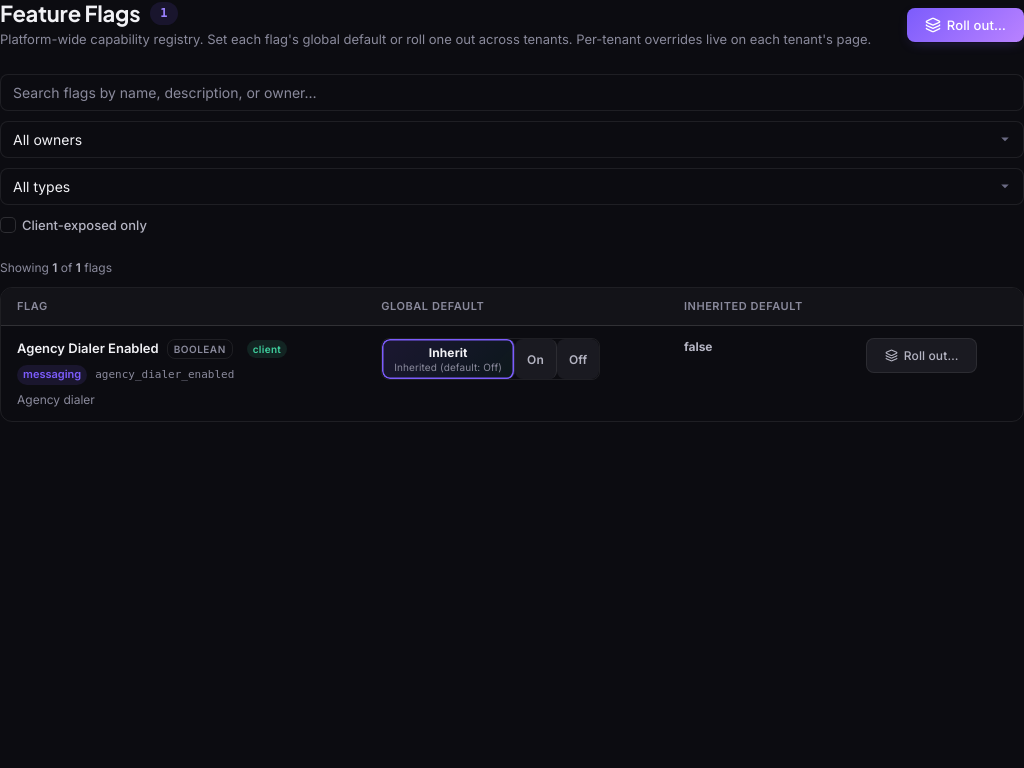
Test: SAFeatureFlagsPage — filters & rollout › required reason blocks bulk submit until filled
Expected: the text "Agency Dialer Enabled" is shown, 17,340 -> 159,356
Click the button "Roll out…" in the row of "Feature Flags" at (965, 25), box 907,8 -> 1023,42
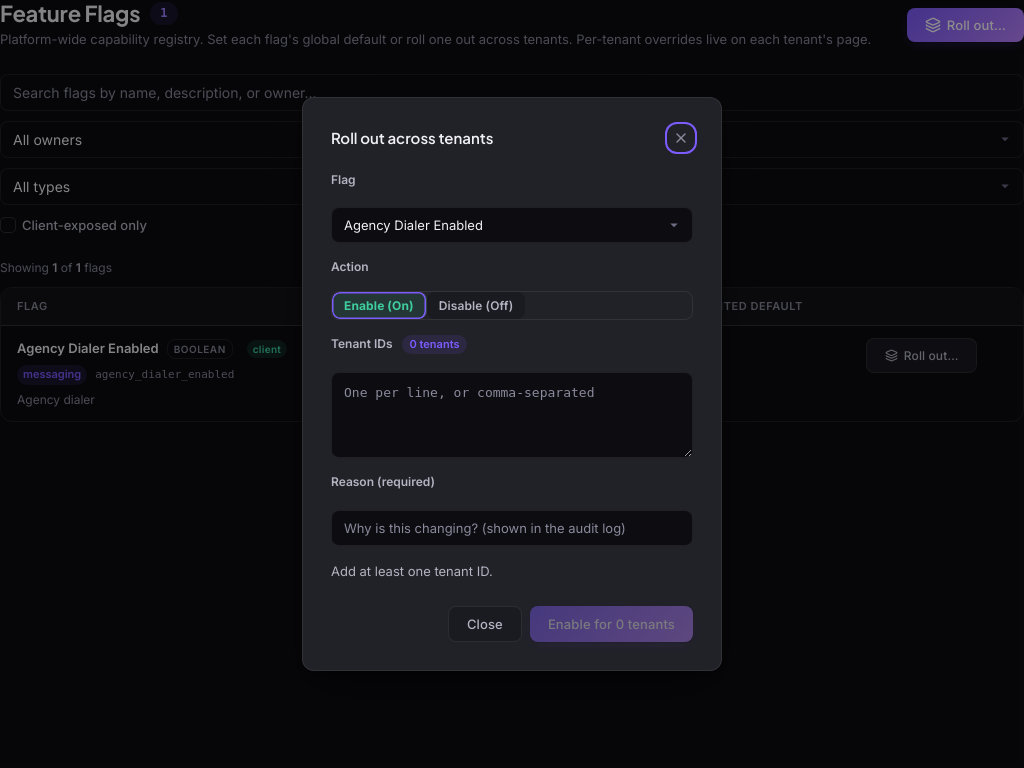
Now the text "Roll out across tenants" is shown, box 331,126 -> 494,150
Type "a b" into the text box labelled "Tenant IDs 0 tenants" at (512, 415), box 331,372 -> 693,458
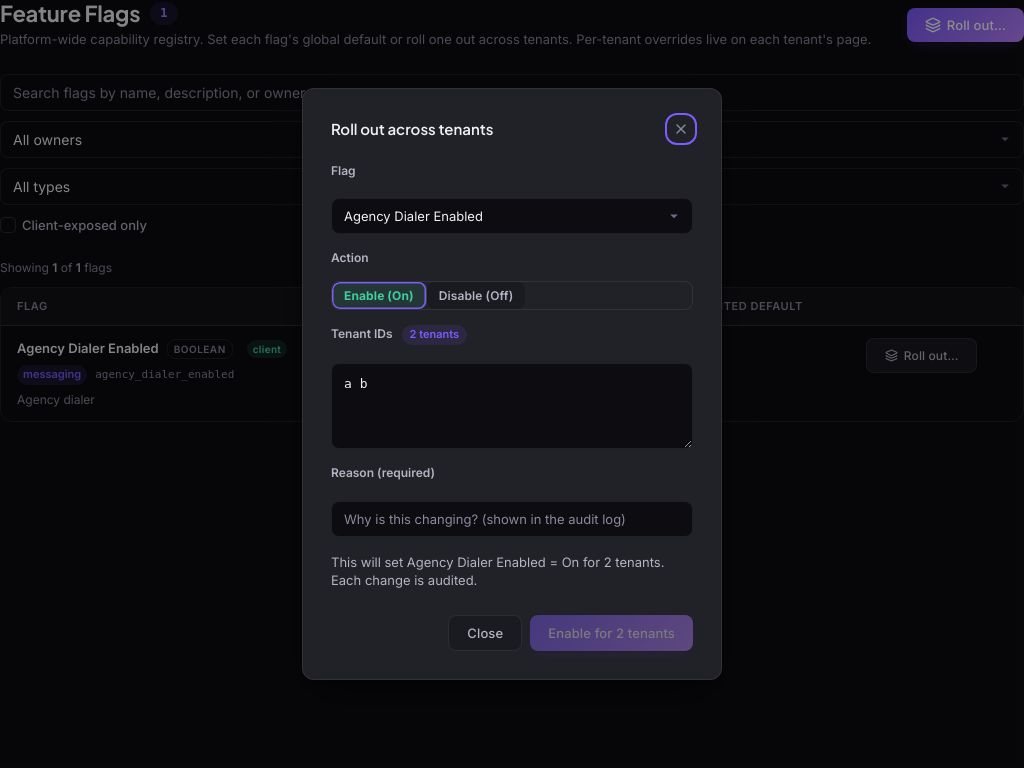
Now the button "Enable for 2 tenants" is disabled, box 530,615 -> 693,651
Type "rollout" into the field labelled "Reason (required)" at (512, 518), box 331,500 -> 693,536
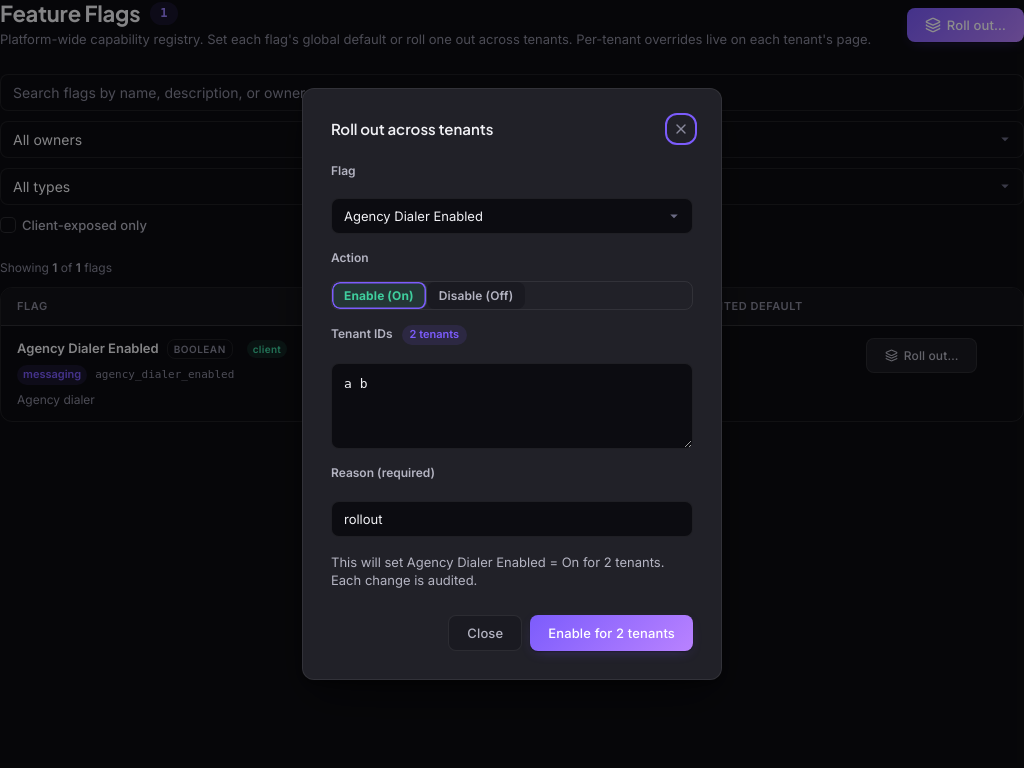
Now the button "Enable for 2 tenants" is enabled, box 530,615 -> 693,651
